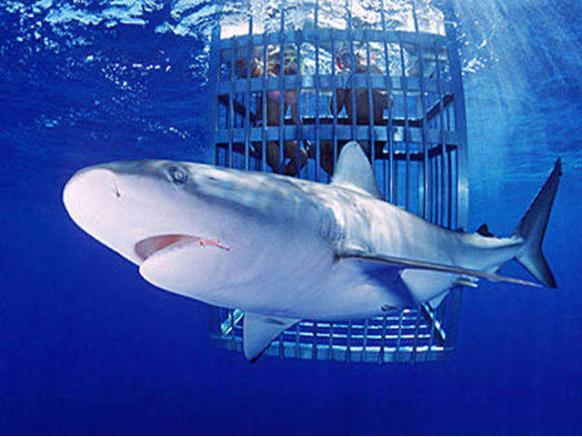fish: (62, 139, 565, 360)
